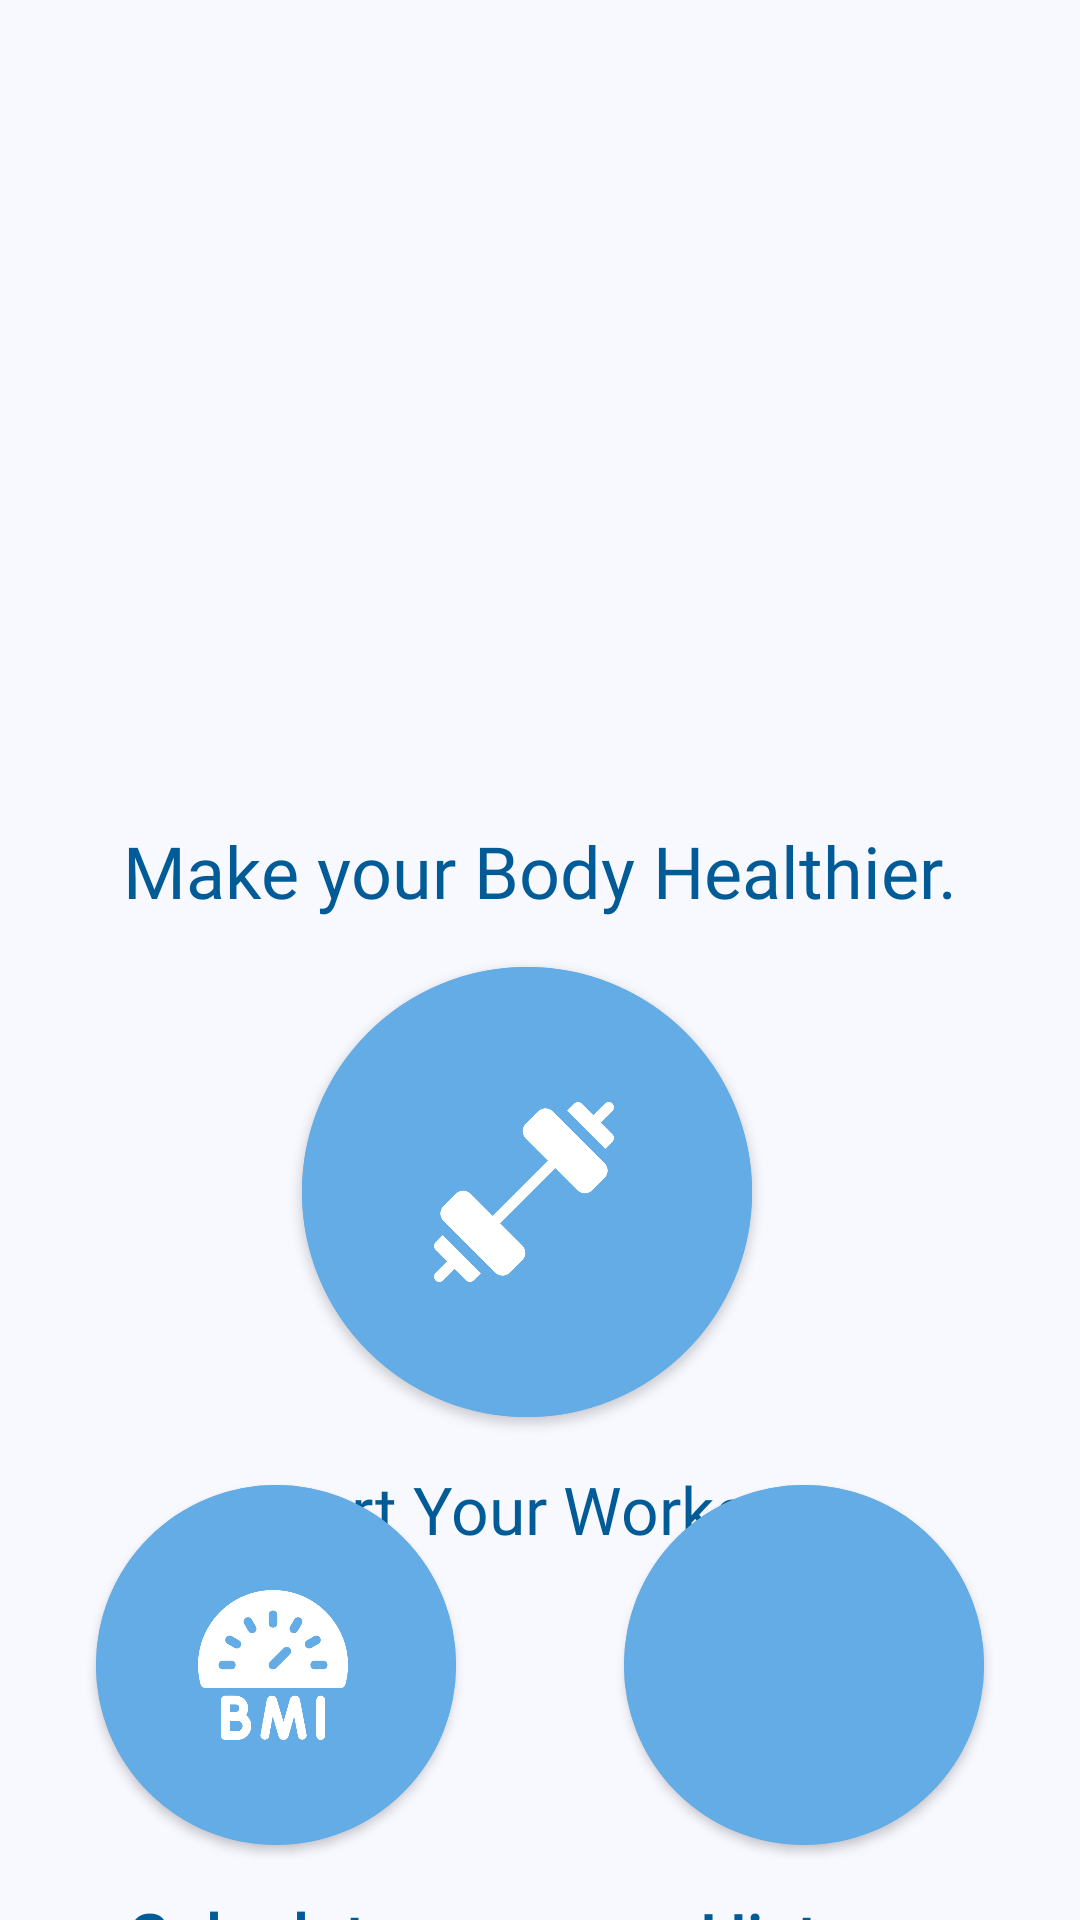

Screen size 1080×1920. Icon name, then its box in pixels as [x1=x1, y1=y1, x2=x2, y2=y2]:
barbell: [x1=434, y1=1102, x2=614, y2=1282]
